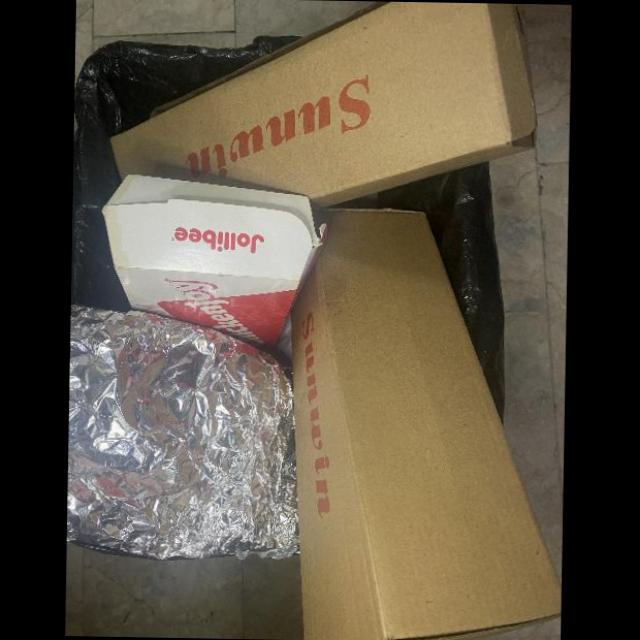carton: (289, 207, 561, 640), (108, 1, 537, 208), (100, 174, 320, 349)
nhom: (66, 304, 300, 561)
